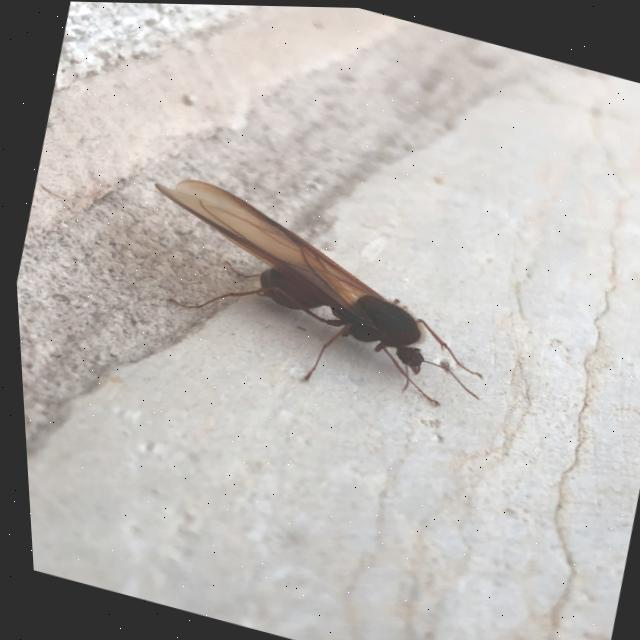Alive-Male-Alate: (113, 168, 510, 426)
